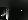person: (1, 8, 7, 20), (5, 7, 10, 20)
